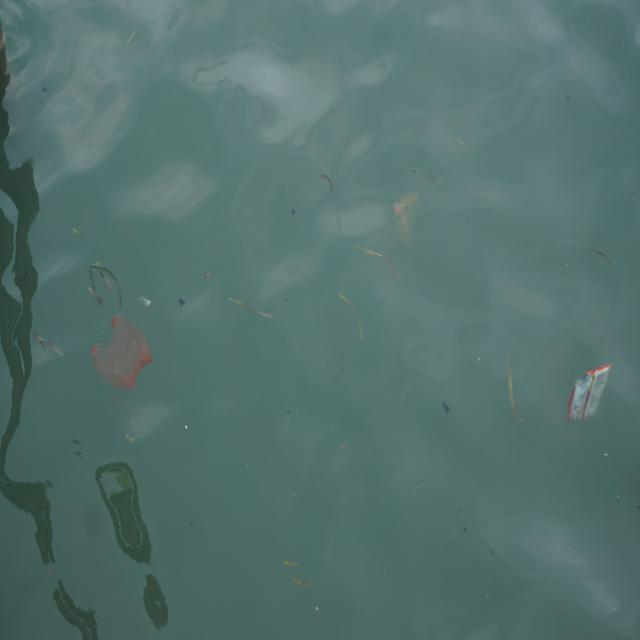Bungkus Makanan: (567, 356, 616, 435)
Kantong Plastik: (90, 310, 155, 395), (392, 186, 422, 239)
